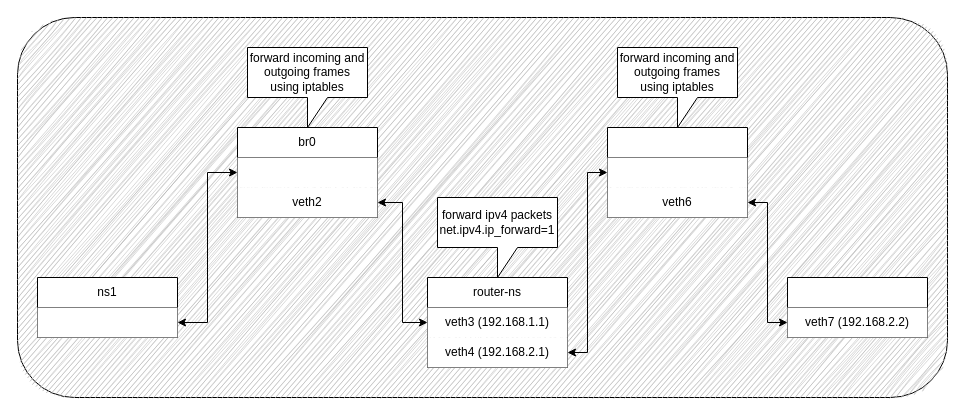
Some shapes in this 965 by 415 pixel diagram are drawn without their labels. The box of each missing label's shape, as (x1, y1, x2, y2) in pixels:
br1: (606, 126, 748, 218)
ns2: (786, 276, 928, 338)
veth0 (192.168.1.2): (37, 307, 177, 337)
veth1: (237, 157, 377, 187)
veth5: (607, 157, 747, 187)
